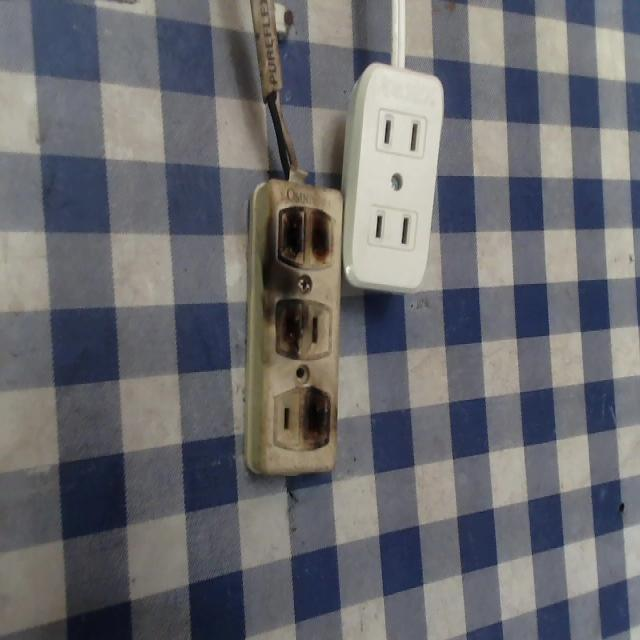-: (275, 193, 337, 283), (272, 291, 309, 360), (300, 385, 332, 451)
